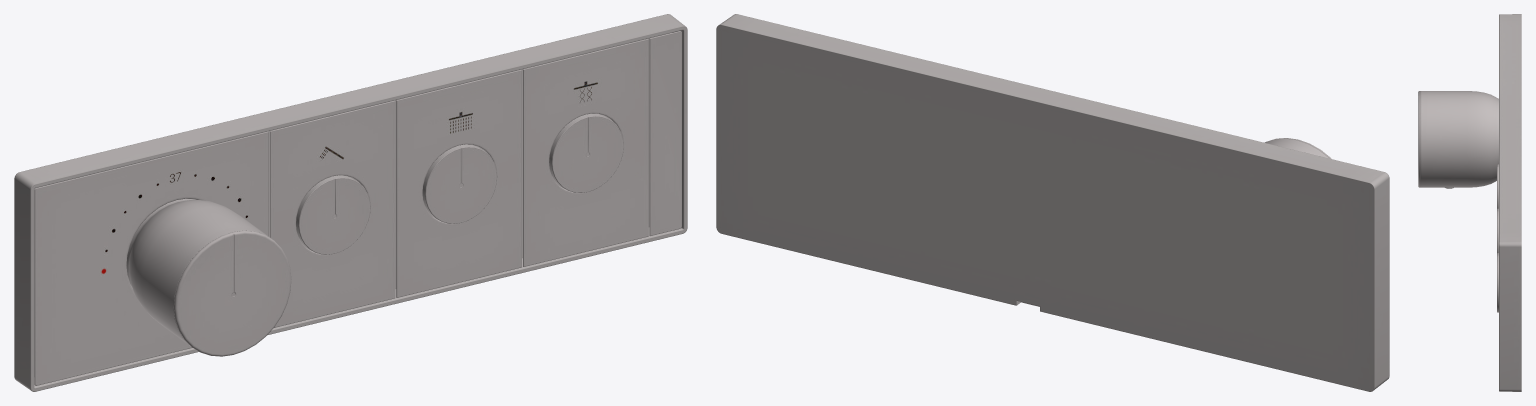
The picture shows the model from 3 angles, left to right: view 1: azimuth 30°, elevation 25°; view 2: azimuth 150°, elevation 25°; view 3: azimuth 270°, elevation 25°; orthographic projection. The views are drawn at different scales.
Visible parts, largest first — view 1: 26347; view 2: 26347; view 3: 26347.
Boxes of the visible parts, bbox=[...] form: 26347: bbox=[14, 14, 687, 391]; 26347: bbox=[716, 14, 1389, 391]; 26347: bbox=[1418, 14, 1521, 391].
Bounding box in the file's own units: 13.3 × 4.04 × 2.52.
Materials: 2 (2 with a texture image).
